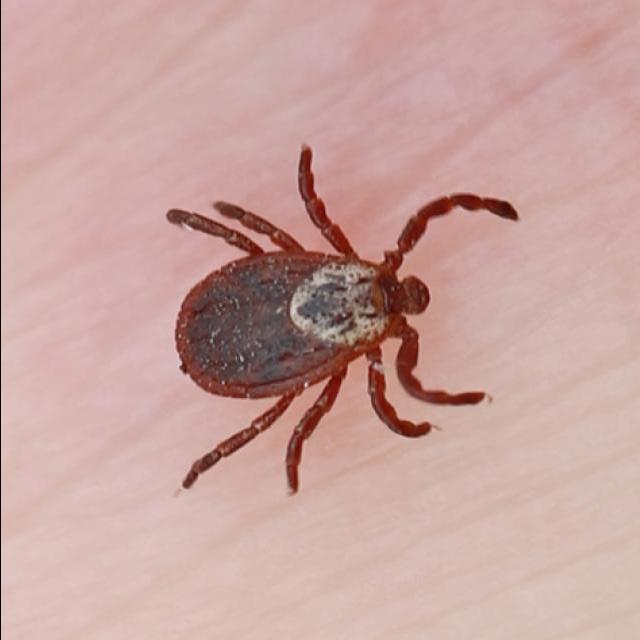Dermacentor Reticulatus-F: (167, 143, 518, 494)
